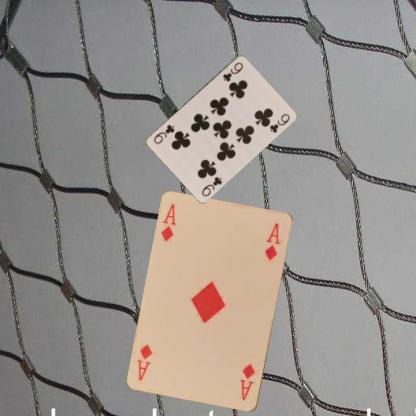9c: (198, 173, 223, 198), (220, 60, 245, 82)
Ad: (158, 201, 178, 243), (238, 361, 256, 402)
